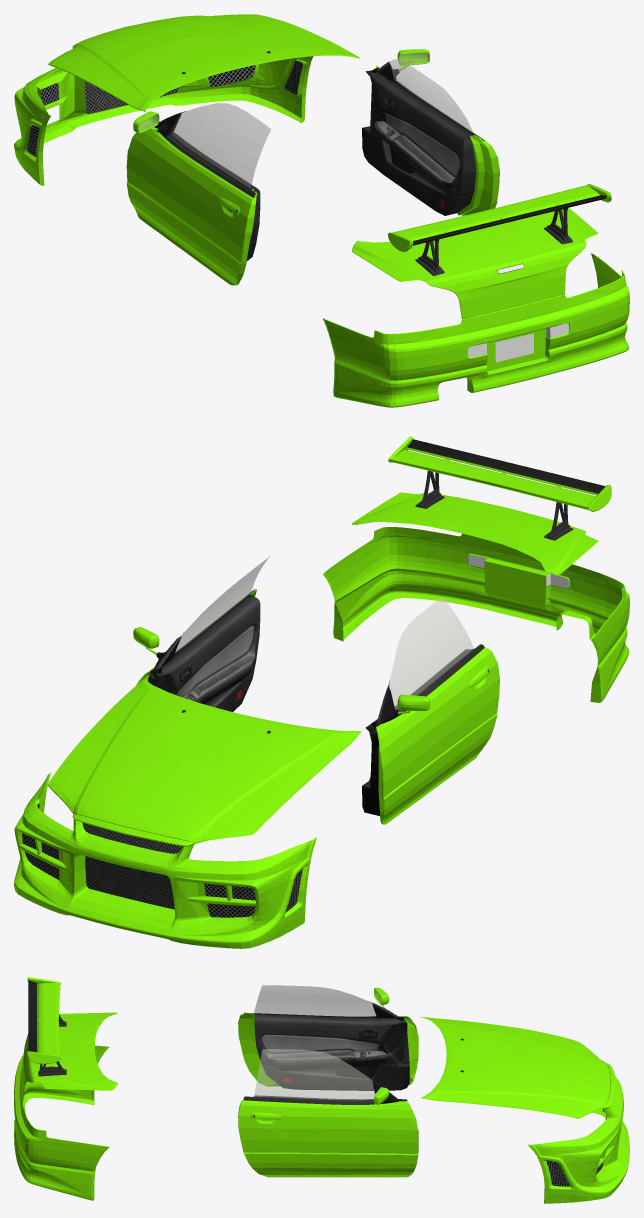
Rendered from skyline.fbx.
The picture shows the model from 3 angles, top to bottom: view 1: azimuth 30°, elevation 25°; view 2: azimuth 150°, elevation 25°; view 3: azimuth 270°, elevation 25°; orthographic projection. The views are drawn at different scales.
Parts seen in each view (by area): view 1: tuned_body; view 2: tuned_body; view 3: tuned_body.
Part boxes in pixels (x1,y1,x2,y2): tuned_body: (14, 14, 629, 407); tuned_body: (14, 436, 629, 948); tuned_body: (14, 977, 629, 1203).
Bounding box in the file's own units: 213 × 128 × 504.
